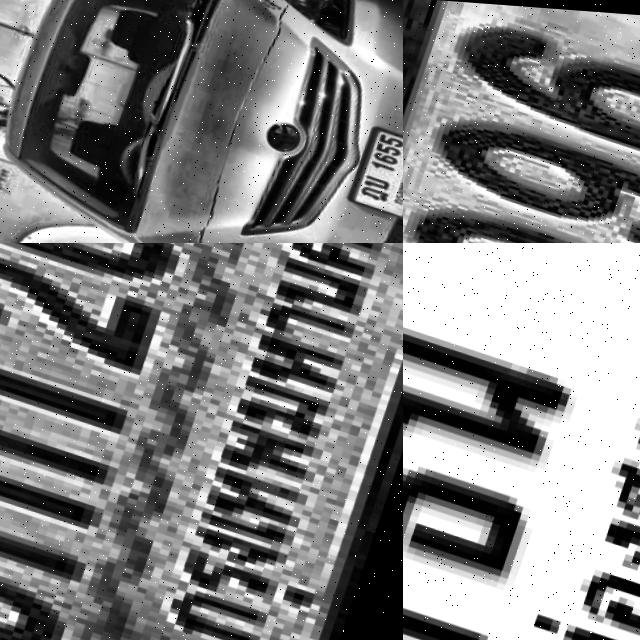license-plate: (0, 243, 403, 640), (403, 243, 640, 640), (403, 0, 640, 243), (349, 112, 403, 219)
